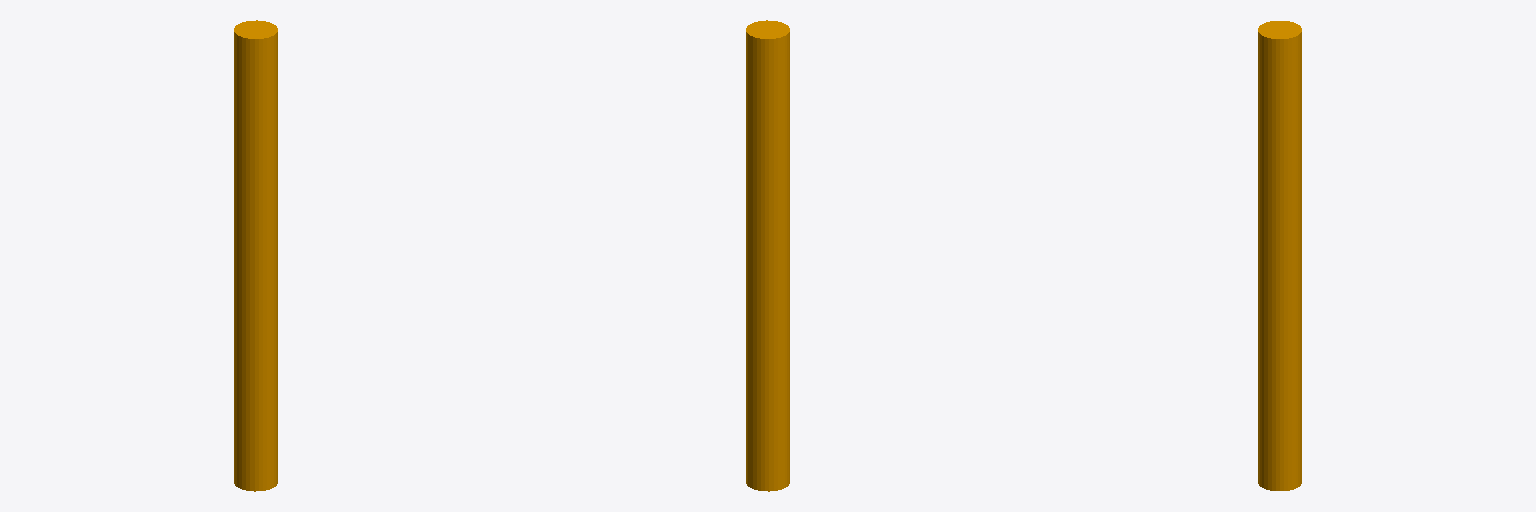
robot.urdf — PIPPA_oneleg_leg:
<?xml version="1.0"?>
<robot name="PIPPA_oneleg_leg">

<!-- Link Gamba -->
  <link name="Gamba_Link">
    <visual>
      <origin rpy="0 0 0" xyz="0 0 0"/> <!-- Gamba alta 0.675, metà altezza = 0.3375 -->
      <geometry>
        <cylinder radius="0.03" length="0.675"/> <!-- Diametro 0.06 m -->
      </geometry>
      <material name="Material.001"/>
    </visual>
    <collision>
      <origin rpy="0 0 0" xyz="0 0 0"/>
      <geometry>
        <cylinder radius="0.03" length="0.675"/>
      </geometry>
    </collision>
    <inertial>
      <origin rpy="0 0 0" xyz="0 0 0"/>
      <mass value="1.6145"/>
      <inertia ixx="0.001" ixy="0" ixz="0" iyy="0.001" iyz="0" izz="0.001"/>
    </inertial>
  </link>
  </robot>

--- What the picture shows (computed from the rendered views, not written in the file) ---
3 views of the same robot in one strip: view 1: azimuth 30°, elevation 25°; view 2: azimuth 150°, elevation 25°; view 3: azimuth 270°, elevation 25° (orthographic).
Model PIPPA_oneleg_leg with 1 links and 0 joints (none), rooted at Gamba_Link, posed all joints at 0.
Visible links, largest first — view 1: Gamba_Link; view 2: Gamba_Link; view 3: Gamba_Link.
Boxes of the visible links, left/top/right/bottom form: Gamba_Link: left=234, top=20, right=277, bottom=491; Gamba_Link: left=746, top=20, right=789, bottom=491; Gamba_Link: left=1258, top=21, right=1301, bottom=490.
Bounding box of the posed robot: 0.06 × 0.06 × 0.675 m (x, y, z).
Geometry: primitives only (box / cylinder / sphere), no mesh files.
